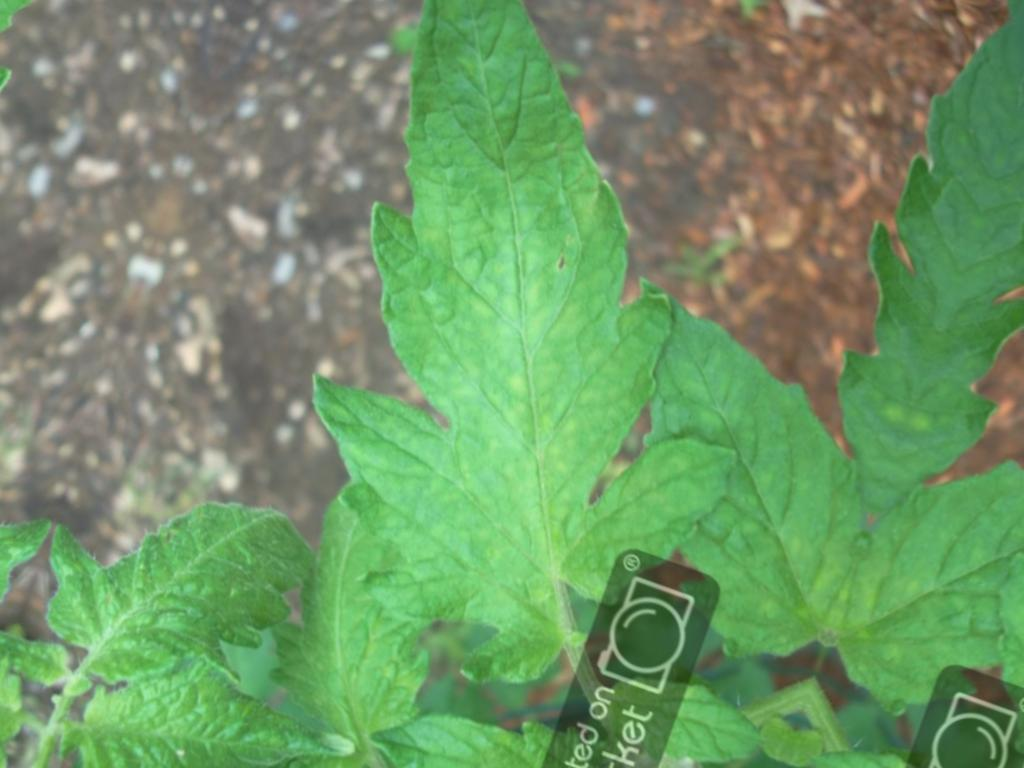Tomato mold leaf: (195, 0, 878, 722)
